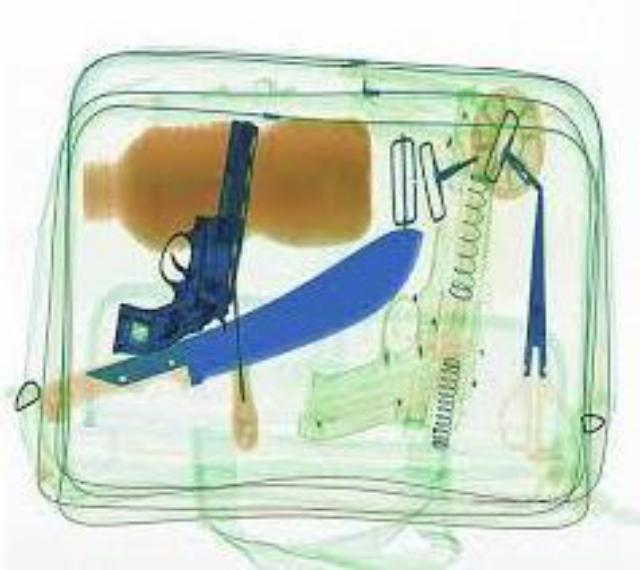Gun: (107, 113, 257, 349)
Knife: (81, 221, 422, 385)
